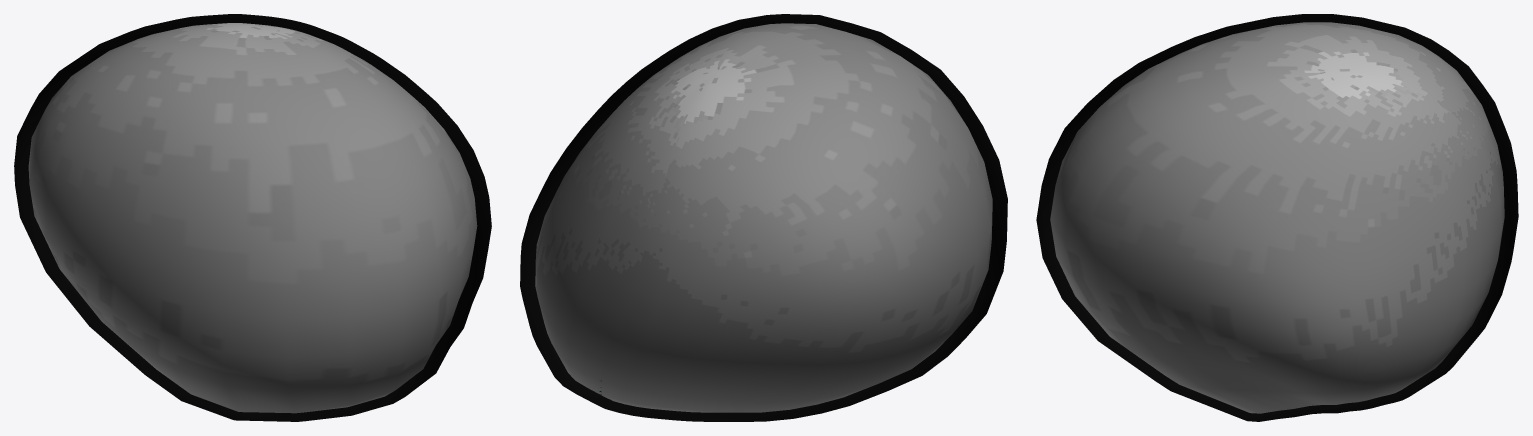
The model's file is (OLD)small stone 2.fbx.
The picture shows the model from 3 angles, left to right: view 1: azimuth 30°, elevation 25°; view 2: azimuth 150°, elevation 25°; view 3: azimuth 270°, elevation 25°; orthographic projection. The views are drawn at different scales.
Visible parts, largest first — view 1: SmallStone2, OT SmallStone2; view 2: SmallStone2, OT SmallStone2; view 3: SmallStone2, OT SmallStone2.
Boxes of the visible parts, x1,y1,x2,y2 form: SmallStone2: (28,23,477,413); OT SmallStone2: (14,14,491,421); SmallStone2: (535,23,992,412); OT SmallStone2: (520,14,1007,421); SmallStone2: (1050,22,1504,413); OT SmallStone2: (1036,14,1518,421).
Bounding box in the file's own units: 2.84 × 2.35 × 3.11.
2 materials, 1 textured.
